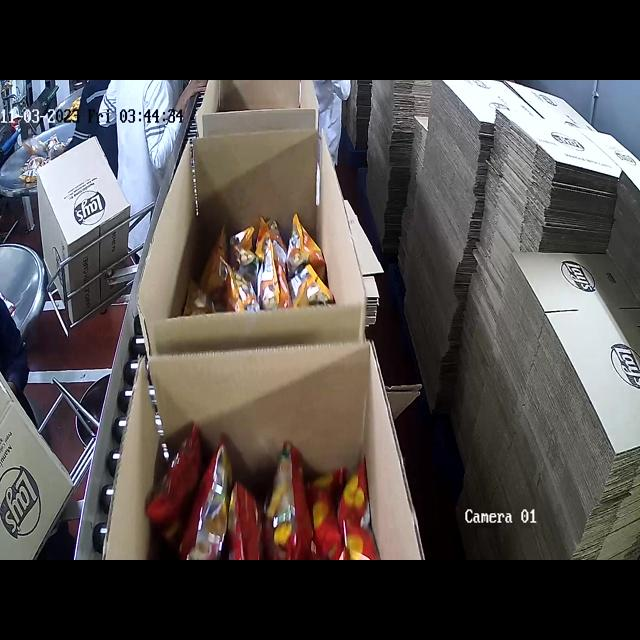cheese: (202, 210, 347, 314)
masala: (152, 440, 363, 560)
